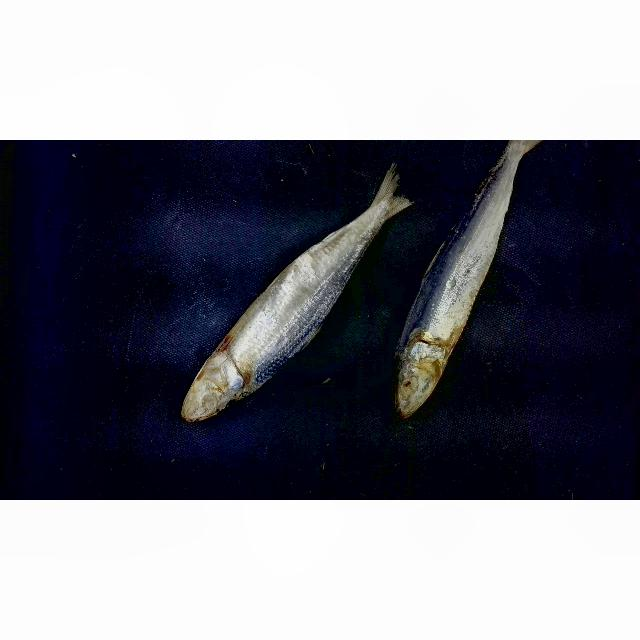Grade_A_Body: (222, 216, 354, 385)
Grade_A_Head: (419, 210, 506, 332), (382, 333, 459, 420), (182, 345, 250, 429)
Grade_A_Tail: (462, 141, 547, 208), (359, 162, 417, 256)
